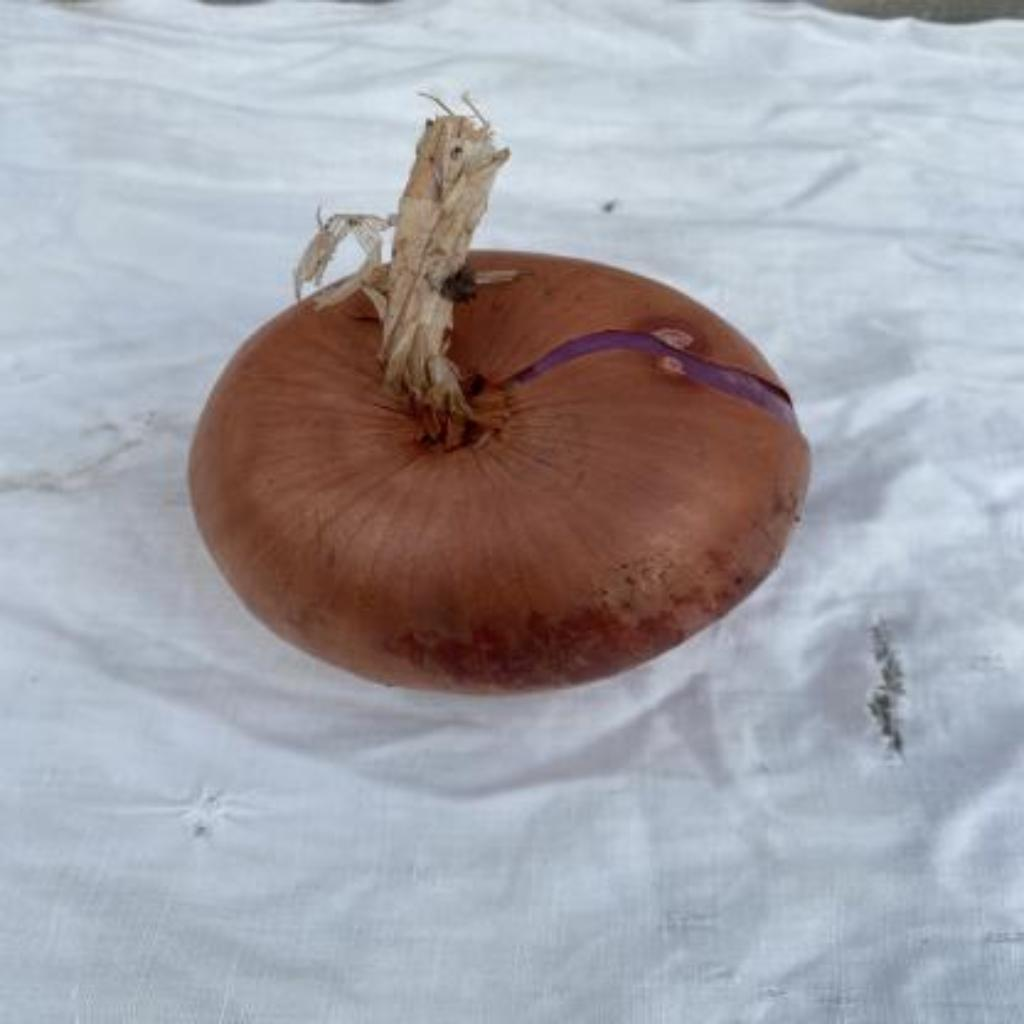Onion: (190, 101, 812, 693)
